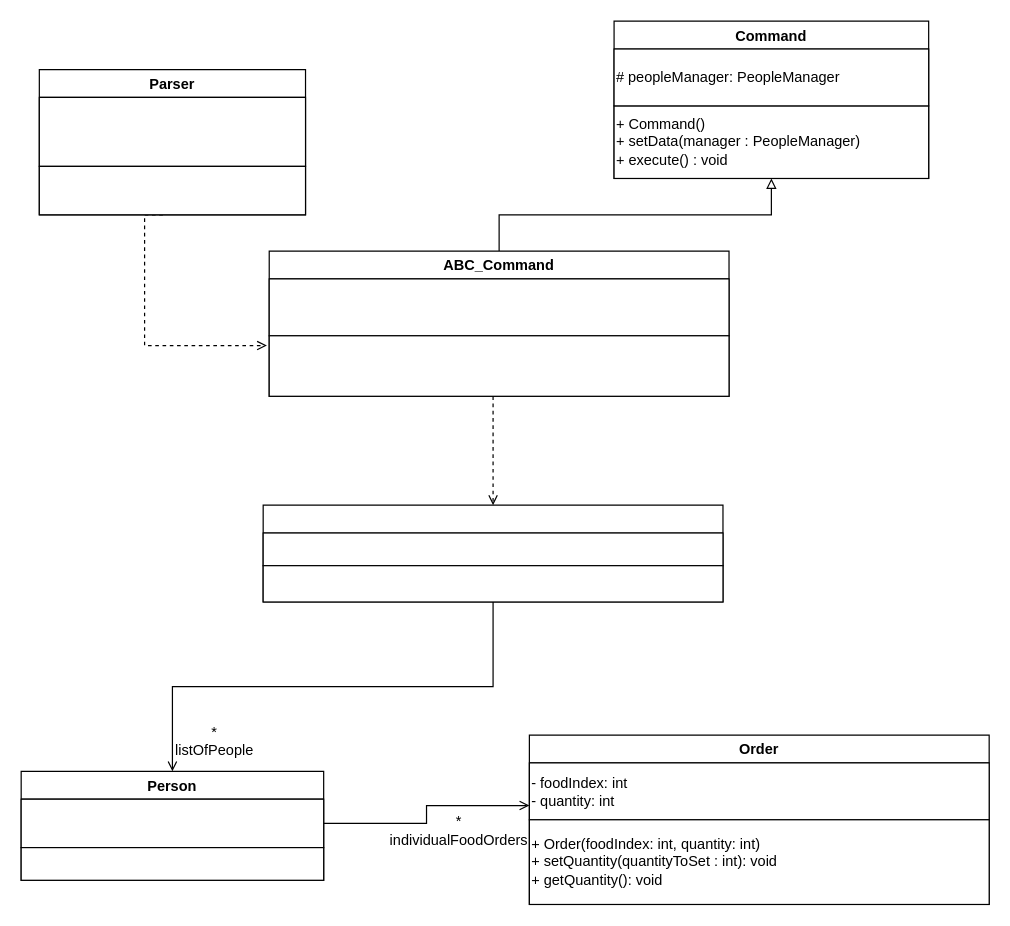
The diagram is 1010 pixels wide and 926 high, and some of its shapes have lost their labels. Here are the shapes that lost their labels. From the top down, the box of each, then its label:
(38, 96, 306, 166): + getCommand(input : String): Command
(268, 278, 729, 336): + COMMAND_WORD: String
(268, 335, 729, 396): + execute(): void
(262, 504, 723, 602): PeopleManager
(20, 798, 324, 848): # personName : String
